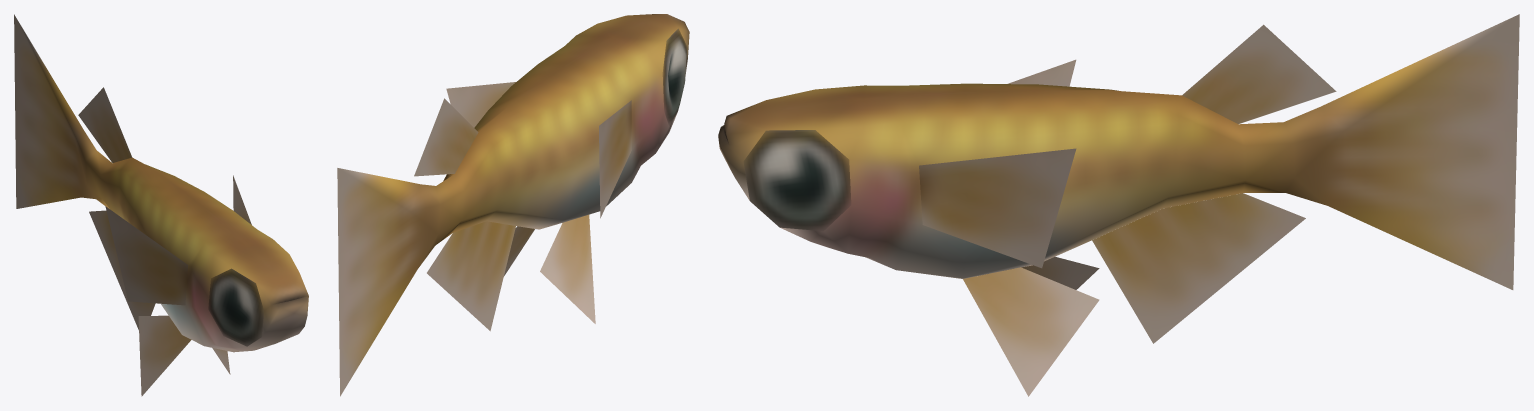
The model's file is killifish.glb.
3 renders of one model, left to right at view 1: azimuth 30°, elevation 25°; view 2: azimuth 150°, elevation 25°; view 3: azimuth 270°, elevation 25°, orthographic. The views are drawn at different scales.
Visible parts, largest first — view 1: FishMedaka__mMedaka; view 2: FishMedaka__mMedaka; view 3: FishMedaka__mMedaka.
Part boxes in pixels (left/top/right/bottom): FishMedaka__mMedaka: left=14, top=14, right=308, bottom=396; FishMedaka__mMedaka: left=337, top=14, right=689, bottom=396; FishMedaka__mMedaka: left=718, top=14, right=1519, bottom=396.
Bounding box in the file's own units: 0.7015 × 1.29 × 2.67.
Materials: 1 (1 with a texture image).
